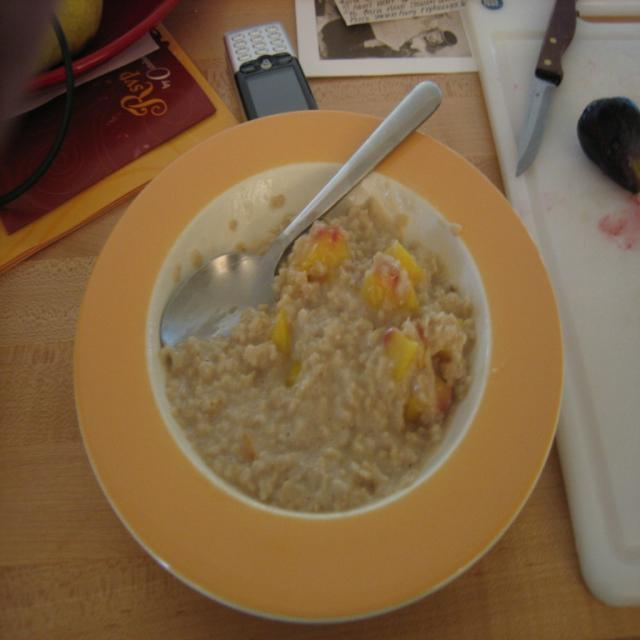Knife: (516, 0, 576, 176)
